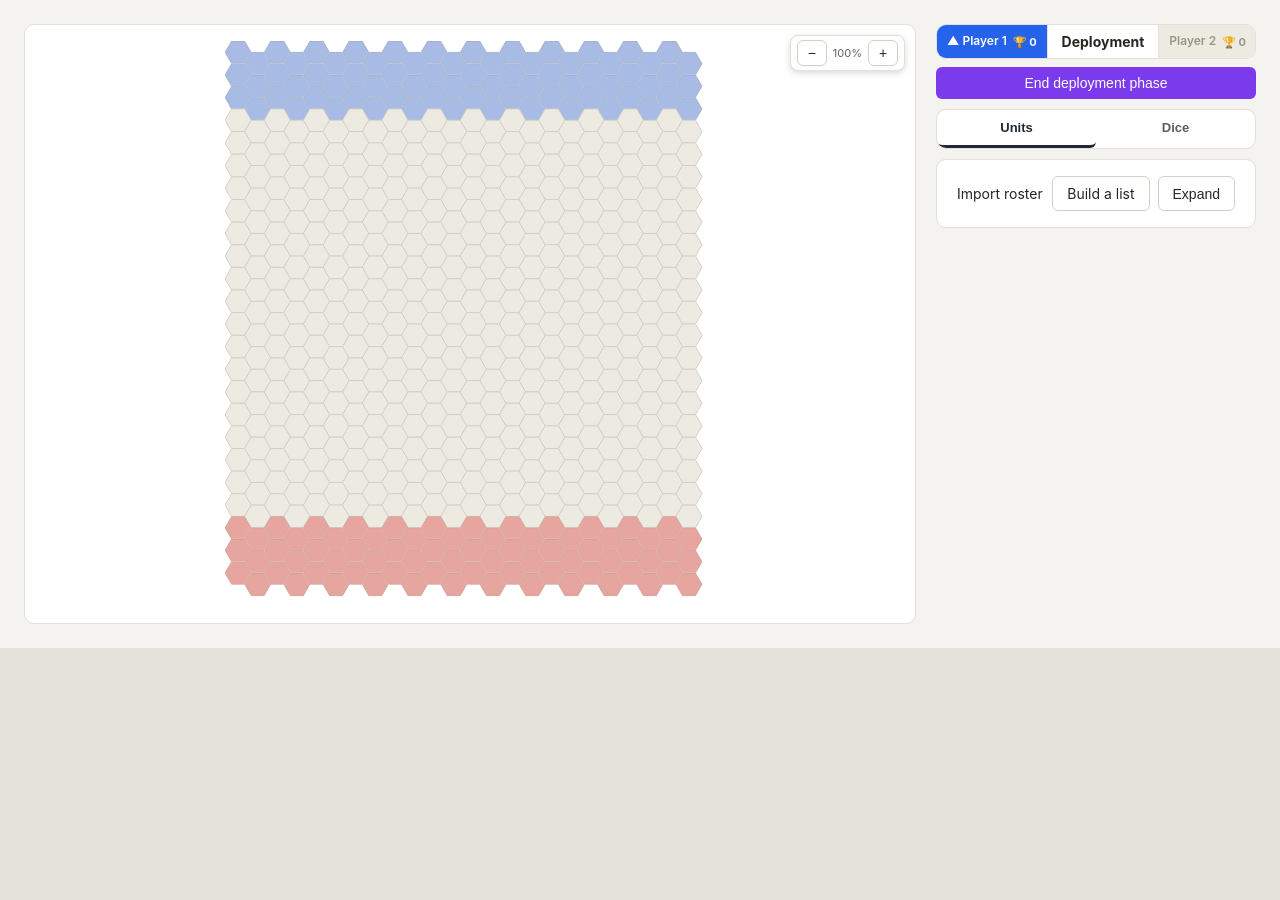
it: BattlePage › only shows the roster import panel during the deployment phase
This screenshot has width=1280, height=900.
Expected: the text "Import roster" is shown, [957,185,1043,202]
What coordinates should you click on to do the following:
click the button "End deployment phase"
I would click on:
 (1096, 83)
Its box is [936,67,1256,99].
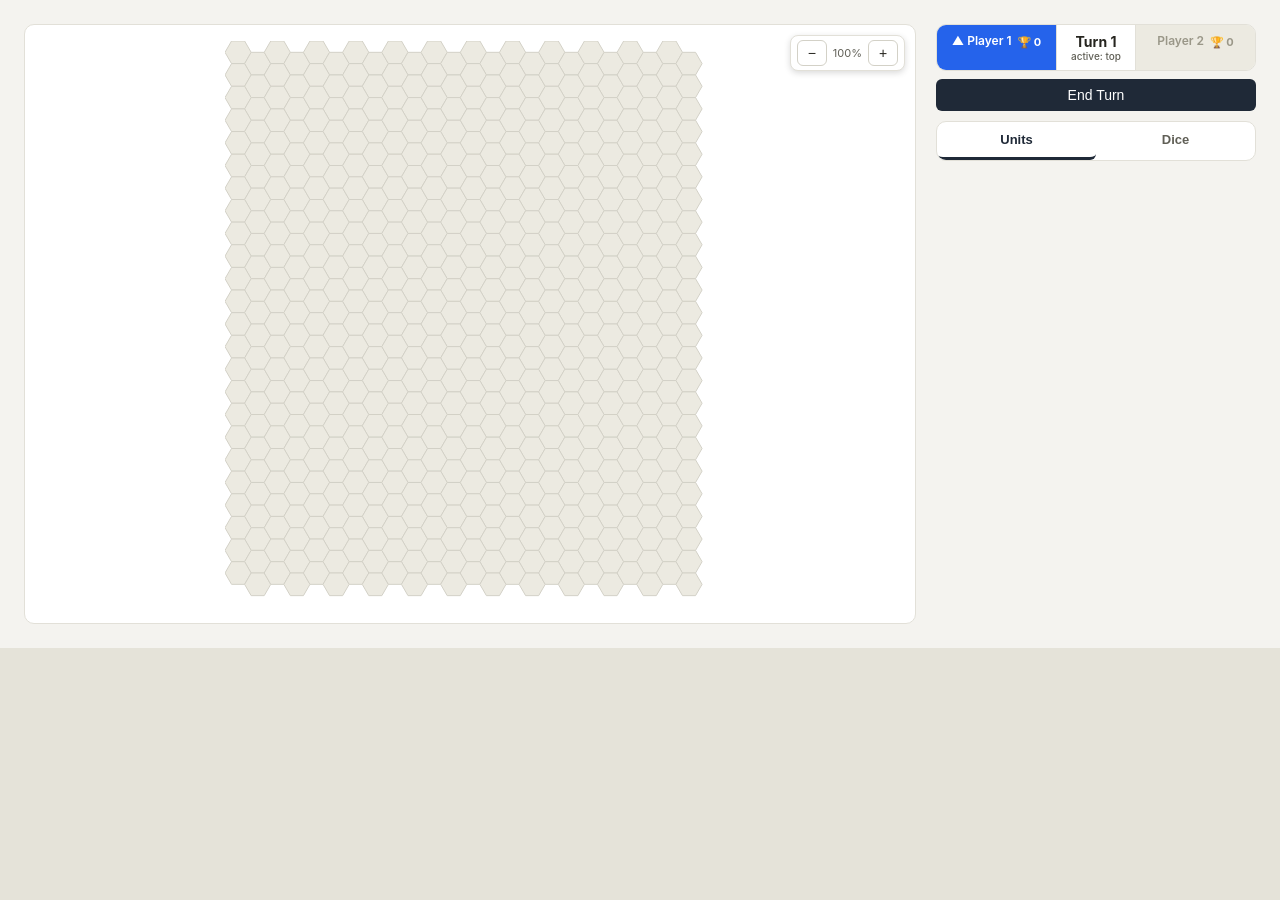
Result: the text "Import roster" is gone
